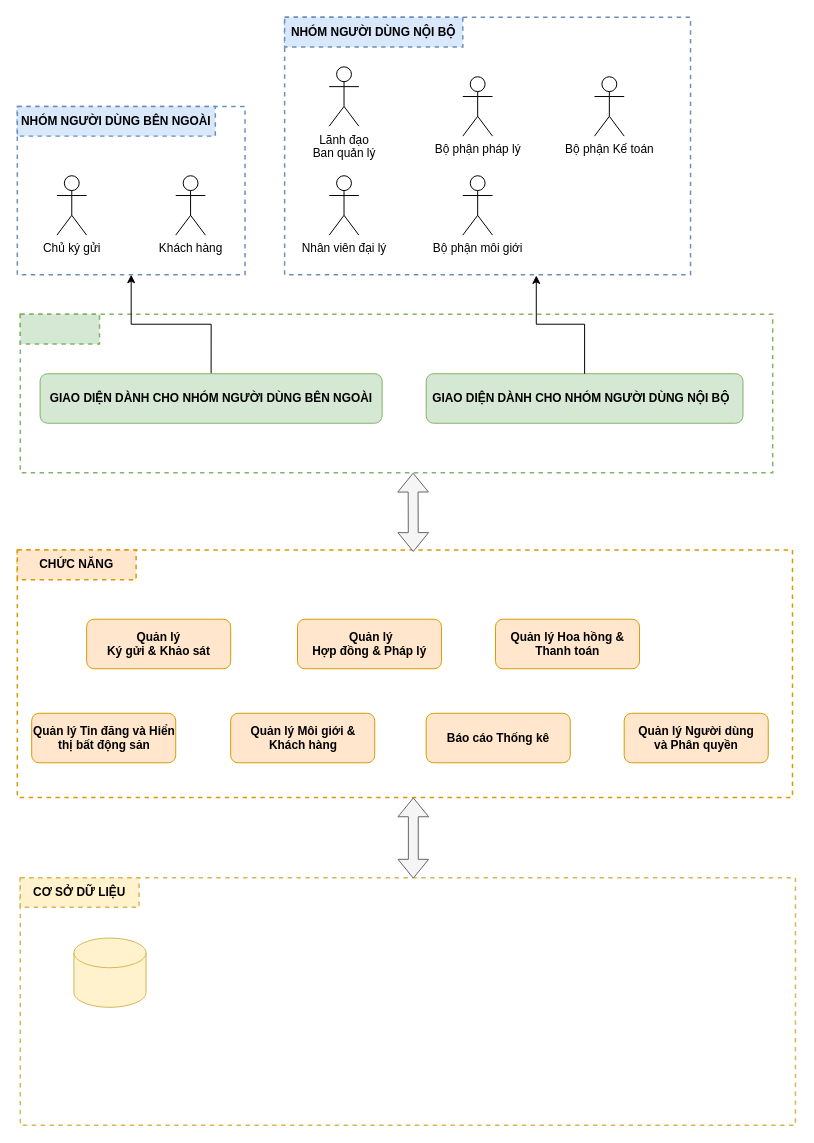
Some shapes in this 814 by 1143 pixel diagram are drawn without their labels. The shapes that lost their labels are listed below. From the top down, each one's centre as x and y in pixels, then its label:
At pixel 59 328: "GIAO DIỆN".
At pixel 109 972: "USER".
